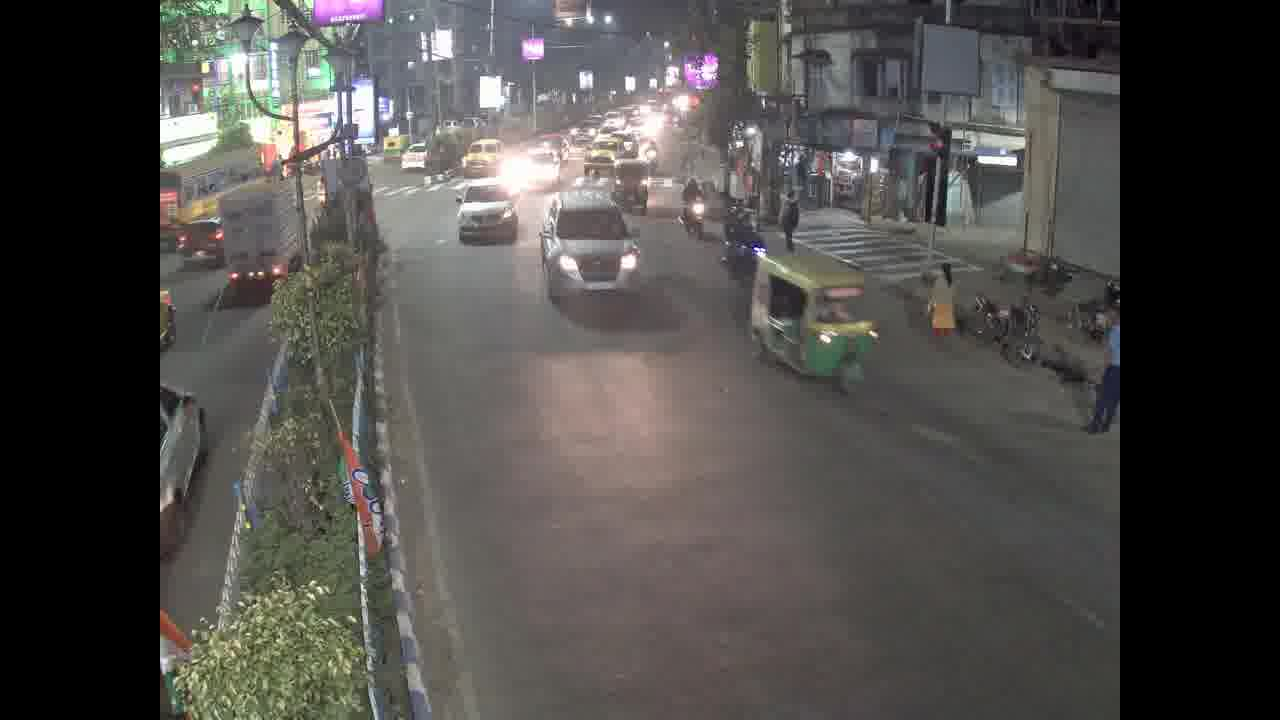auto-rickshaw: (751, 253, 874, 397), (613, 159, 646, 215)
bike: (972, 292, 1043, 374), (719, 230, 764, 268), (677, 201, 707, 245)
car: (550, 201, 634, 292), (462, 190, 514, 237), (463, 138, 501, 172)
person: (929, 259, 965, 343), (773, 190, 809, 248), (679, 175, 707, 206)
